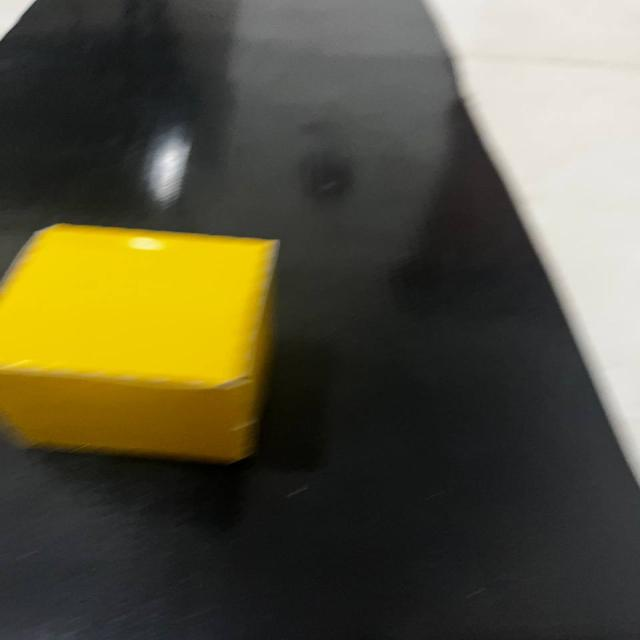Amarillo: (4, 207, 293, 483)
